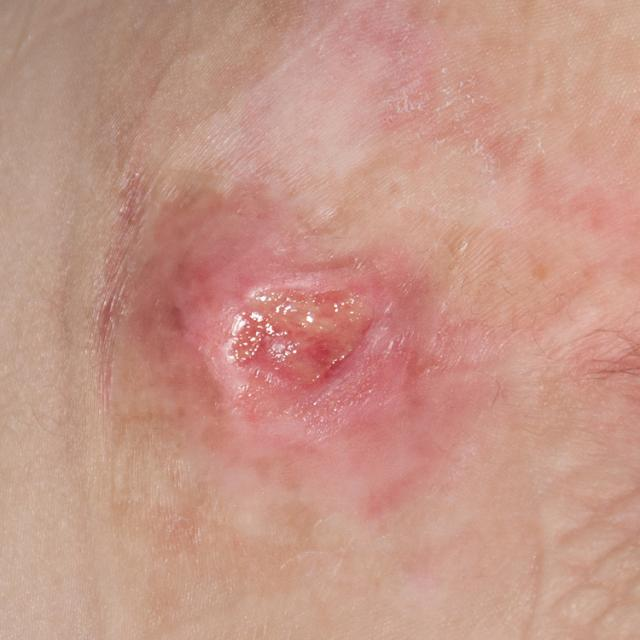stage-3: (223, 286, 378, 384)
